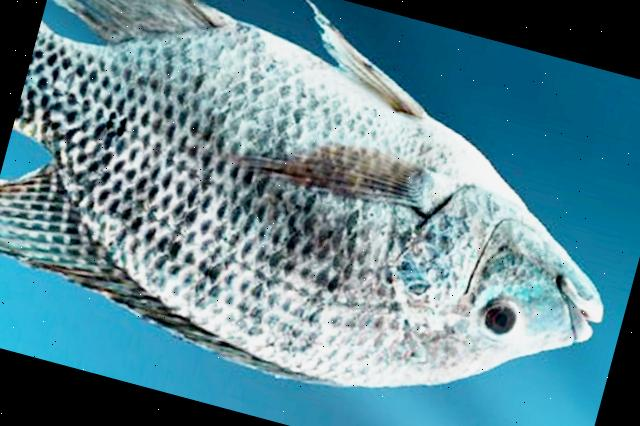Tilapia Lake Virus -TiLV-: (0, 0, 603, 385), (0, 0, 602, 385)
